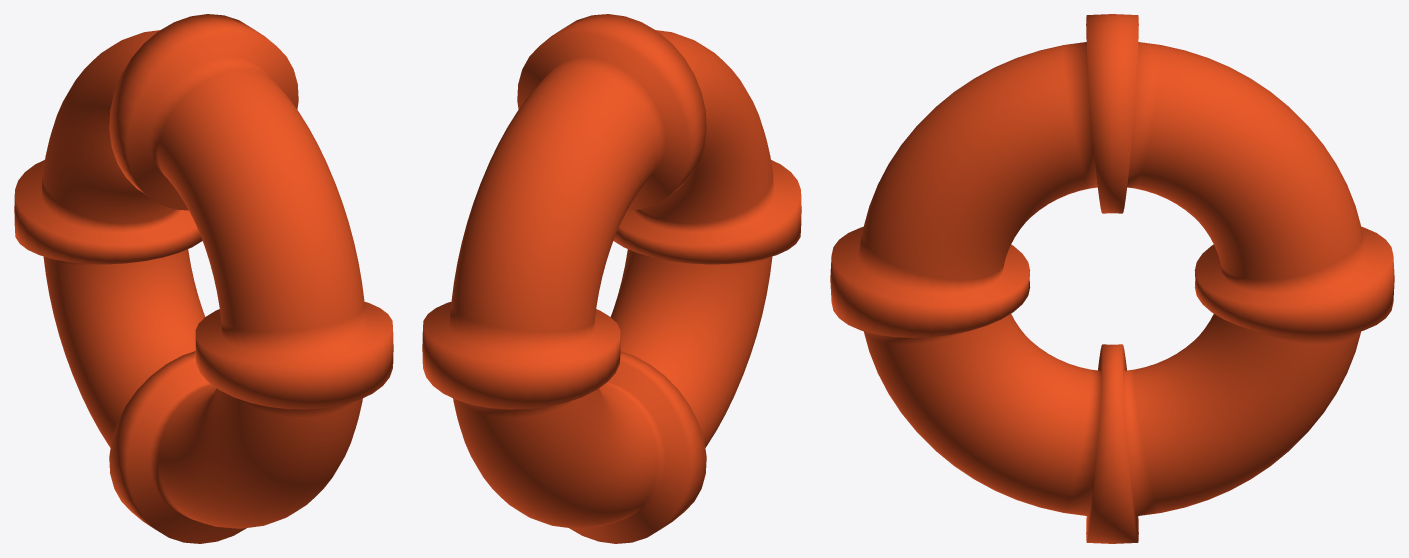
3 views of the same model, side by side, from view 1: azimuth 30°, elevation 25°; view 2: azimuth 150°, elevation 25°; view 3: azimuth 270°, elevation 25° (orthographic).
Visible parts, largest first — view 1: Torus.001; view 2: Torus.001; view 3: Torus.001.
Boxes of the visible parts, x1,y1,x2,y2 form: Torus.001: (14,14,393,543); Torus.001: (422,14,801,543); Torus.001: (830,14,1394,543).
Bounding box in the file's own units: 179 × 507 × 507.
